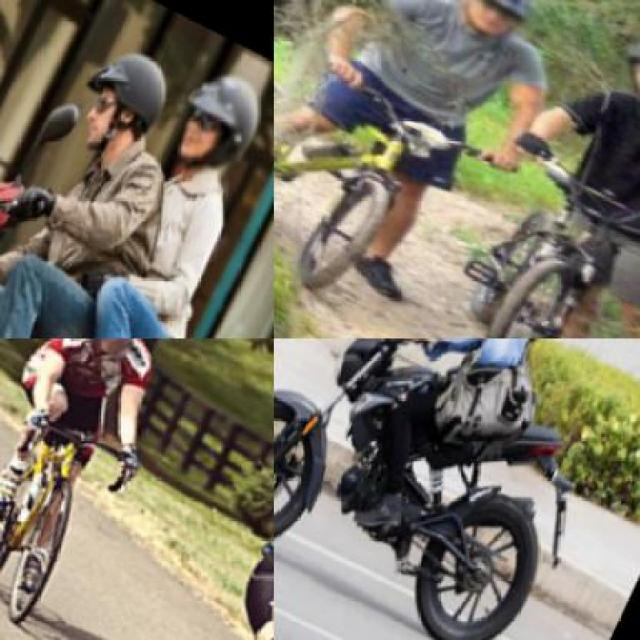With Helmet: (53, 15, 190, 174), (157, 50, 272, 196), (441, 0, 549, 55), (610, 23, 638, 129), (75, 338, 158, 364)
